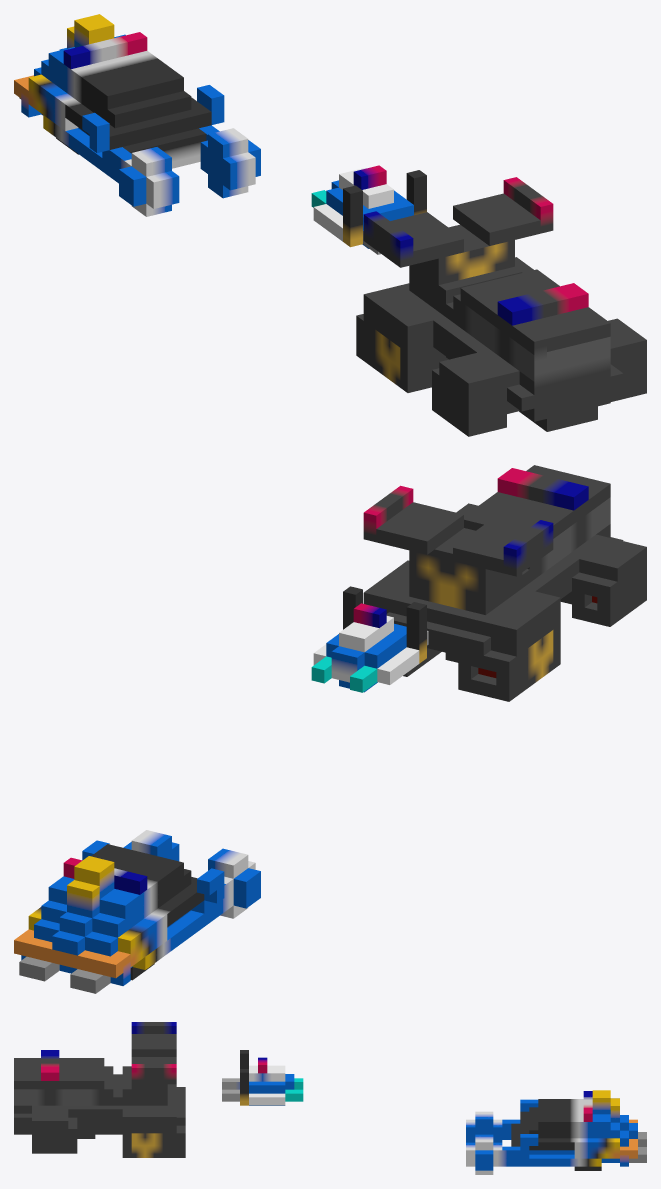
File: police_ships_1.dae
3 renders of one model, top to bottom at view 1: azimuth 30°, elevation 25°; view 2: azimuth 150°, elevation 25°; view 3: azimuth 270°, elevation 25°, orthographic. The views are drawn at different scales.
Parts seen in each view (by area): view 1: swat_ship, police_ship, police_drone; view 2: swat_ship, police_ship, police_drone; view 3: swat_ship, police_ship, police_drone.
Boxes of the visible parts, box(x1,y1,x2,y2) form: swat_ship: box(356, 177, 646, 436); police_ship: box(14, 14, 260, 216); police_drone: box(311, 165, 426, 254); swat_ship: box(363, 465, 646, 701); police_ship: box(14, 830, 260, 993); police_drone: box(311, 586, 428, 692); swat_ship: box(14, 1022, 185, 1157); police_ship: box(466, 1090, 646, 1174); police_drone: box(222, 1050, 303, 1105).
Size of the model in its own units: 14 by 14 by 70.
Materials: 1 (1 with a texture image).
